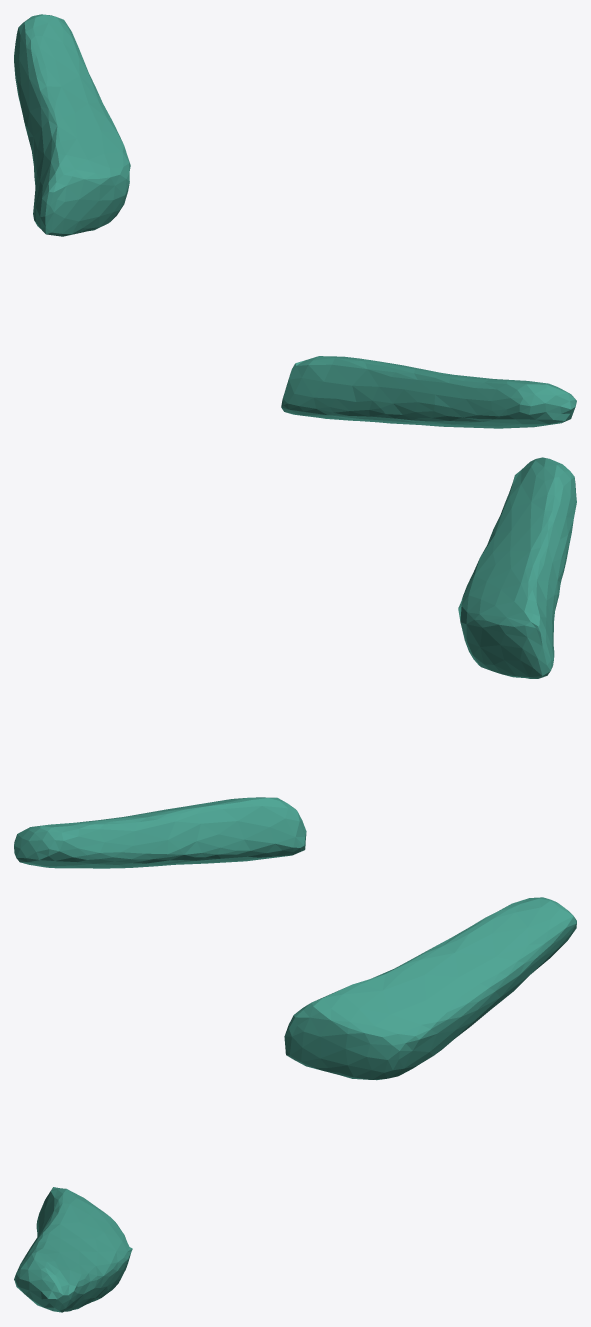
3 views of the same model, one above another, from view 1: azimuth 30°, elevation 25°; view 2: azimuth 150°, elevation 25°; view 3: azimuth 330°, elevation 25° (orthographic).
Parts seen in each view (by area): view 1: 1111.obj; view 2: 1111.obj; view 3: 1111.obj.
Boxes of the visible parts, <box> form: 1111.obj: <box>14,14,576,428</box>; 1111.obj: <box>14,457,576,868</box>; 1111.obj: <box>14,897,576,1312</box>.
Bounding box in the file's own units: 885 × 573 × 4992.
